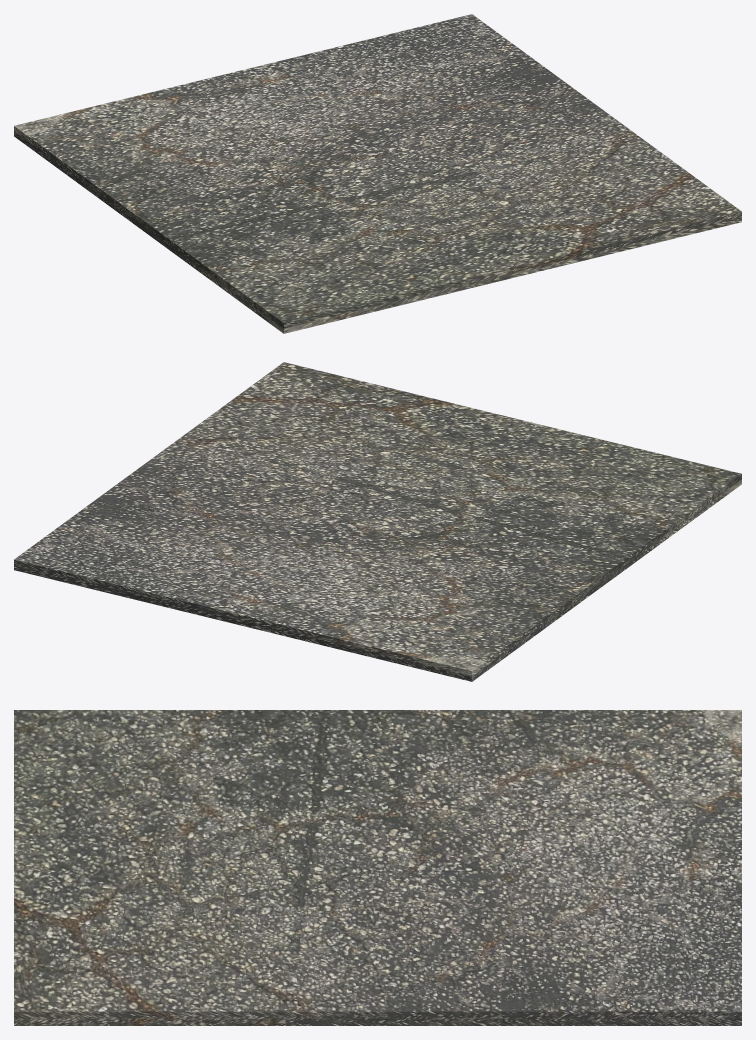
The model's file is Asphalt.fbx.
The picture shows the model from 3 angles, top to bottom: view 1: azimuth 30°, elevation 25°; view 2: azimuth 150°, elevation 25°; view 3: azimuth 270°, elevation 25°; orthographic projection. The views are drawn at different scales.
Parts seen in each view (by area): view 1: ground.002; view 2: ground.002; view 3: ground.002.
Part boxes in pixels (<box>): ground.002: <box>14,14,741,333</box>; ground.002: <box>14,362,741,681</box>; ground.002: <box>14,710,741,1025</box>.
Bounding box in the file's own units: 1986 × 43.7 × 2026.
1 material, 1 textured.
